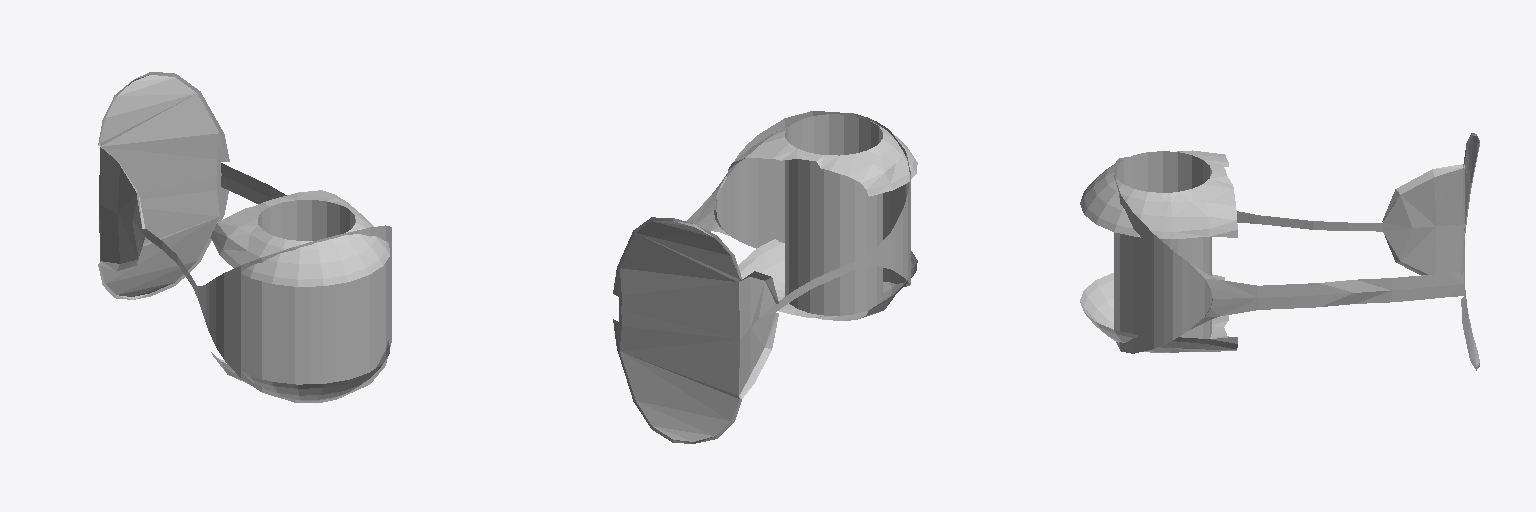
Rendered from HipPitch_shiny.obj.
The picture shows the model from 3 angles: view 1: azimuth 30°, elevation 25°; view 2: azimuth 150°, elevation 25°; view 3: azimuth 270°, elevation 25°; orthographic projection.
Bounding box in the file's own units: 1.66 × 2.03 × 3.27.